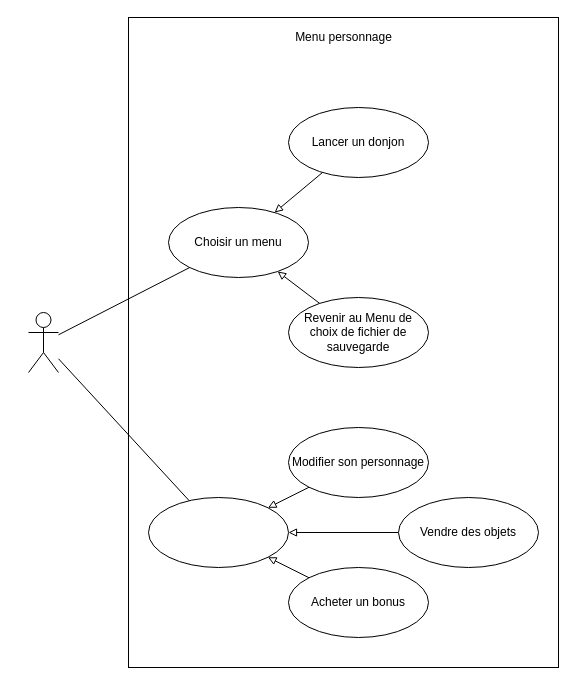
This 576x685 diagram has some shape labels left out. The box of each missing label's shape, as (x1, y1, x2, y2) in pixels:
Choisir une action: (148, 496, 288, 568)
Utilisateur: (28, 312, 58, 372)
